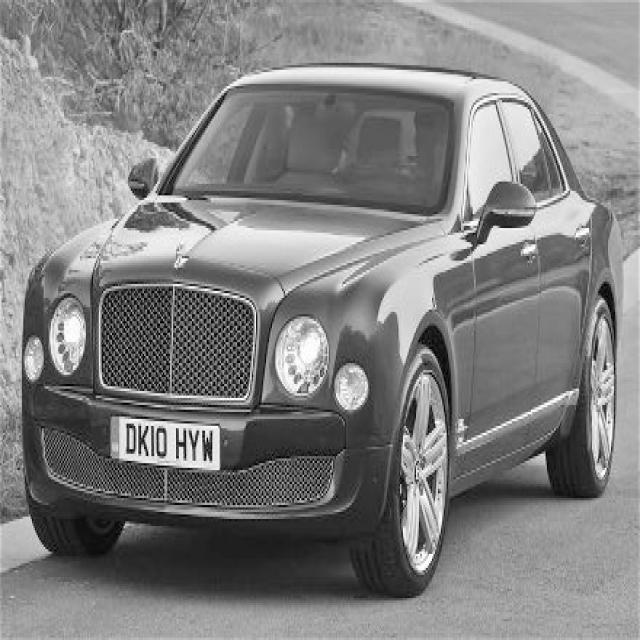car: (20, 61, 624, 598)
plat_license: (109, 412, 220, 470)
